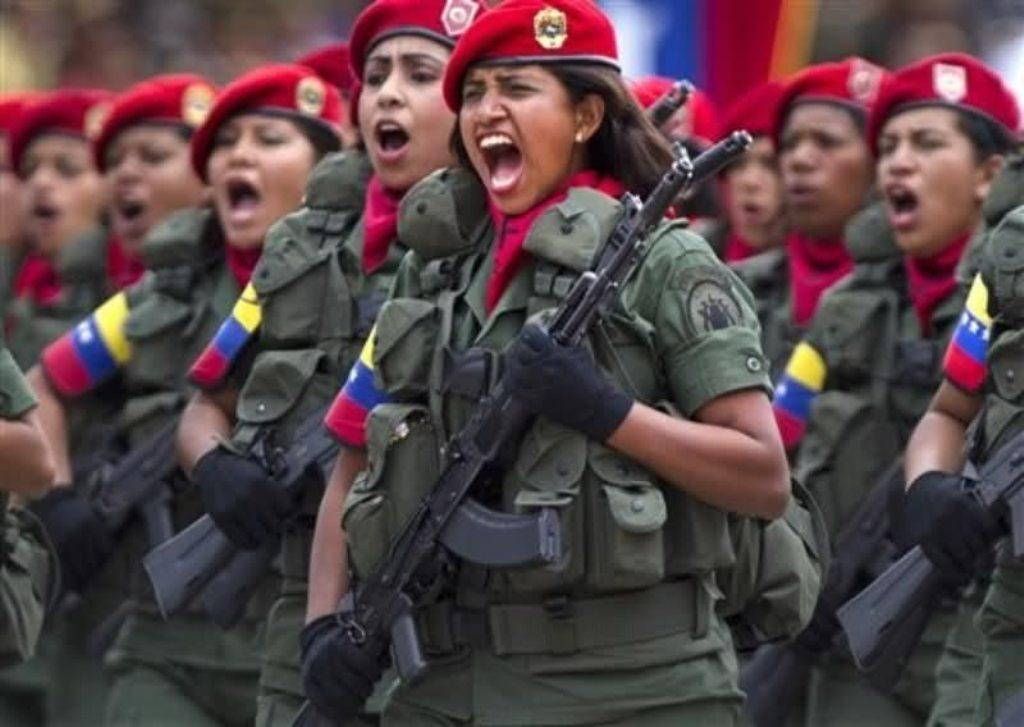human_face: (460, 54, 576, 212), (360, 34, 460, 192), (208, 114, 312, 242), (882, 100, 970, 250), (106, 126, 204, 256), (784, 96, 870, 230), (20, 134, 102, 256), (726, 124, 790, 252)
